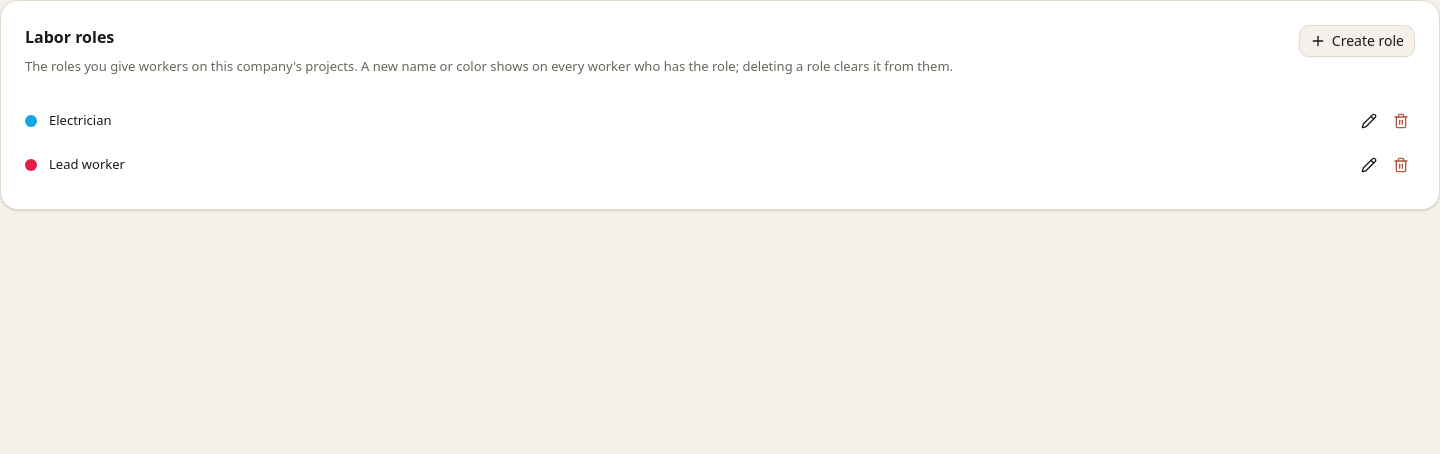
Test: CompanyLaborRolesCard › shows a duplicate name next to the form and keeps it open
Expected: the text "Electrician" is shown, [49,111,112,129]
Click the button "Create role" at (1357, 41), box [1299,25,1415,57]
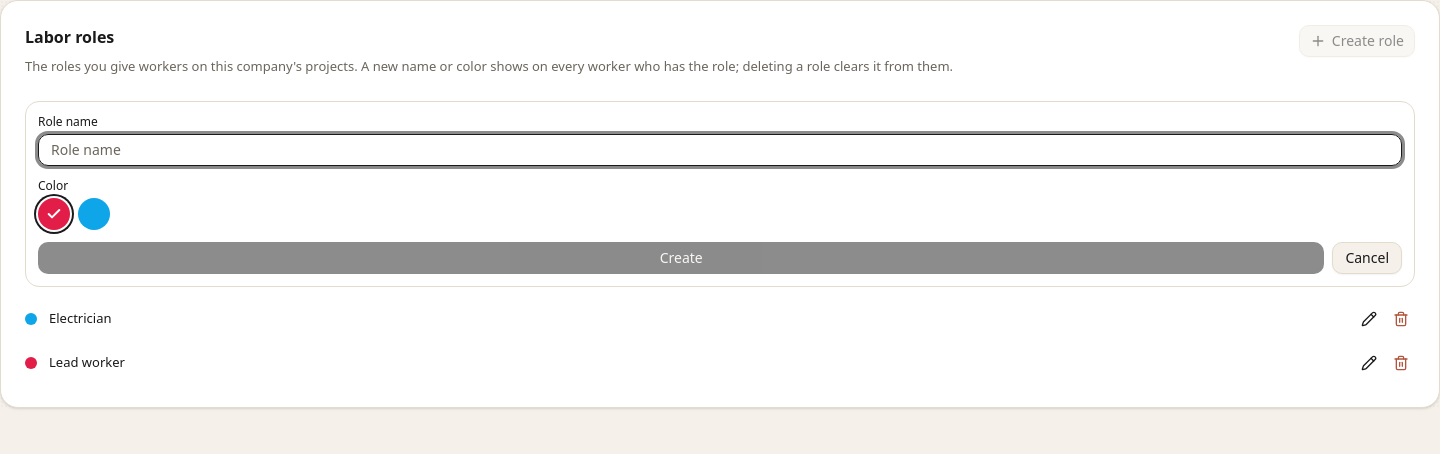
Type "Electrician" into the field labelled "Role name" at (720, 150), box [38,134,1402,166]
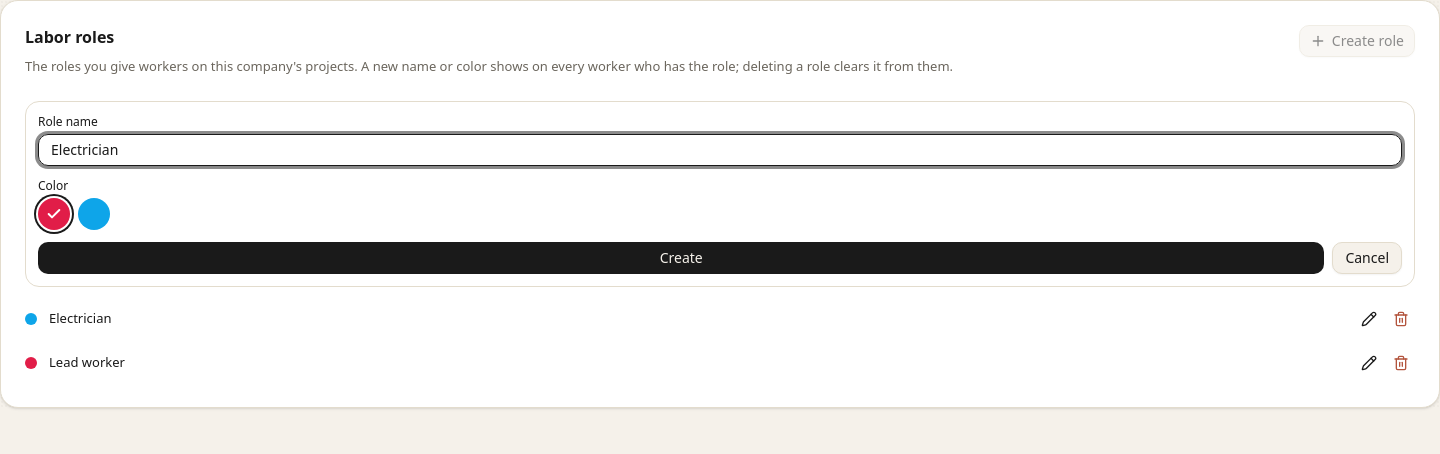
Click the button "Create" at (681, 258), box [38,242,1324,274]
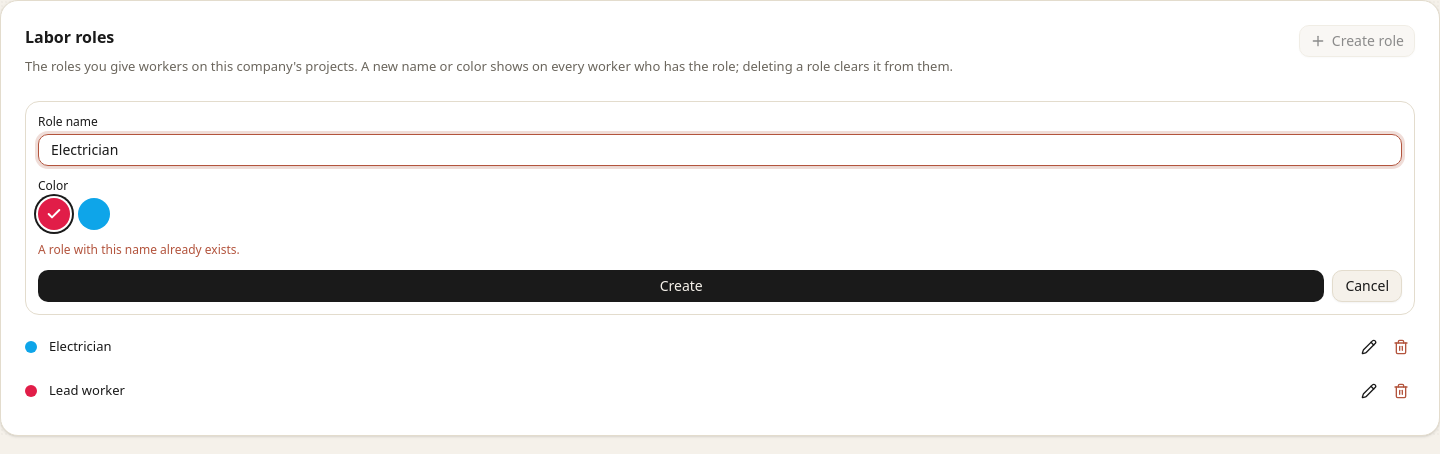
Expected: the message reads "A role with this name already exists.", [38,240,240,258]
